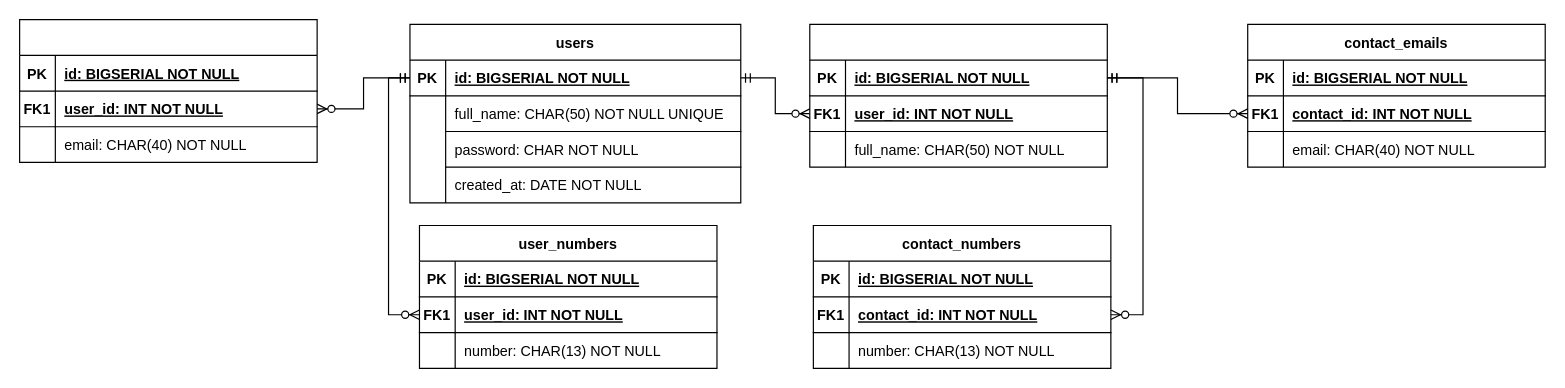
This 1565x388 diagram has some shape labels left out. Each missing label, with the box of its shape:
contacts: (809, 23, 1107, 167)
user_emails: (18, 18, 317, 162)
